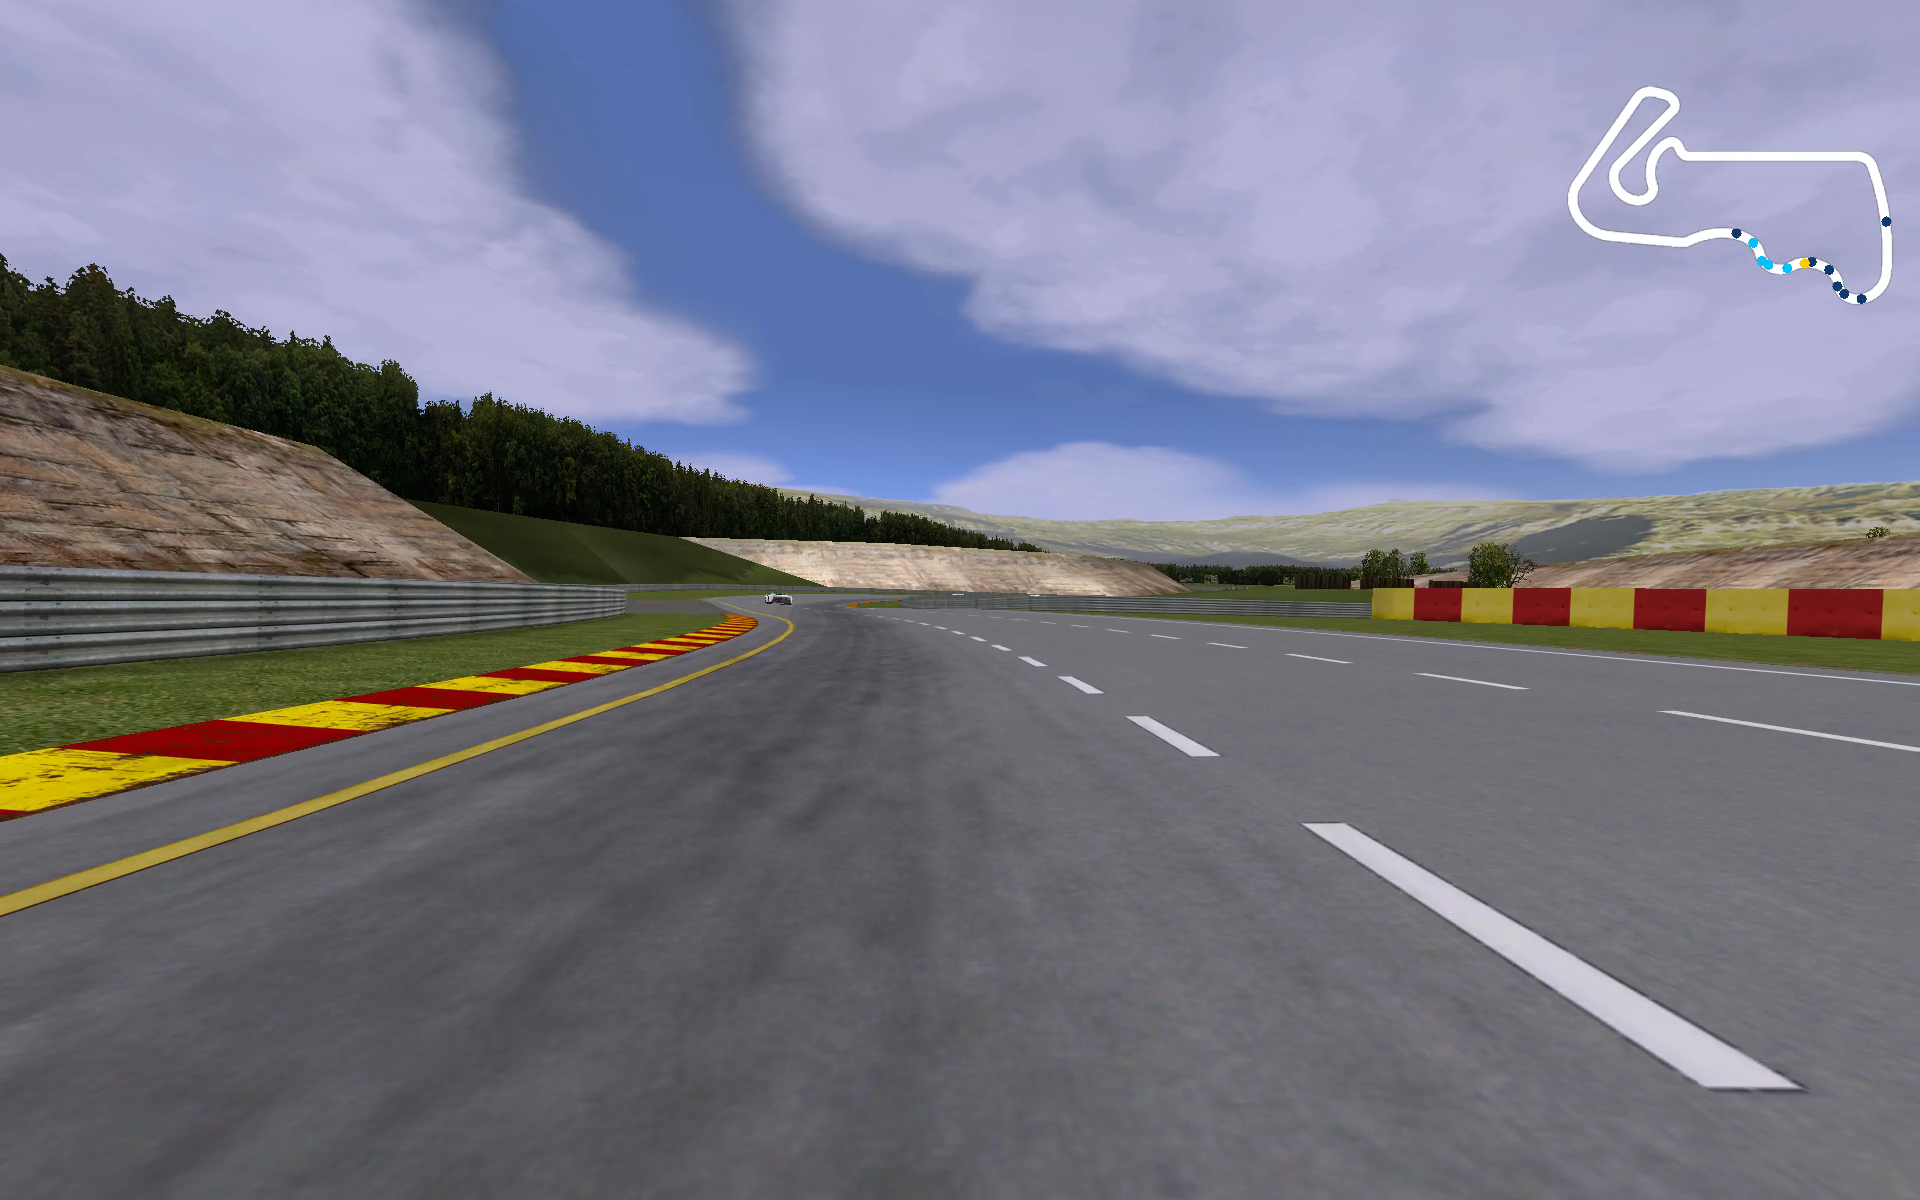car: (762, 590, 798, 606)
